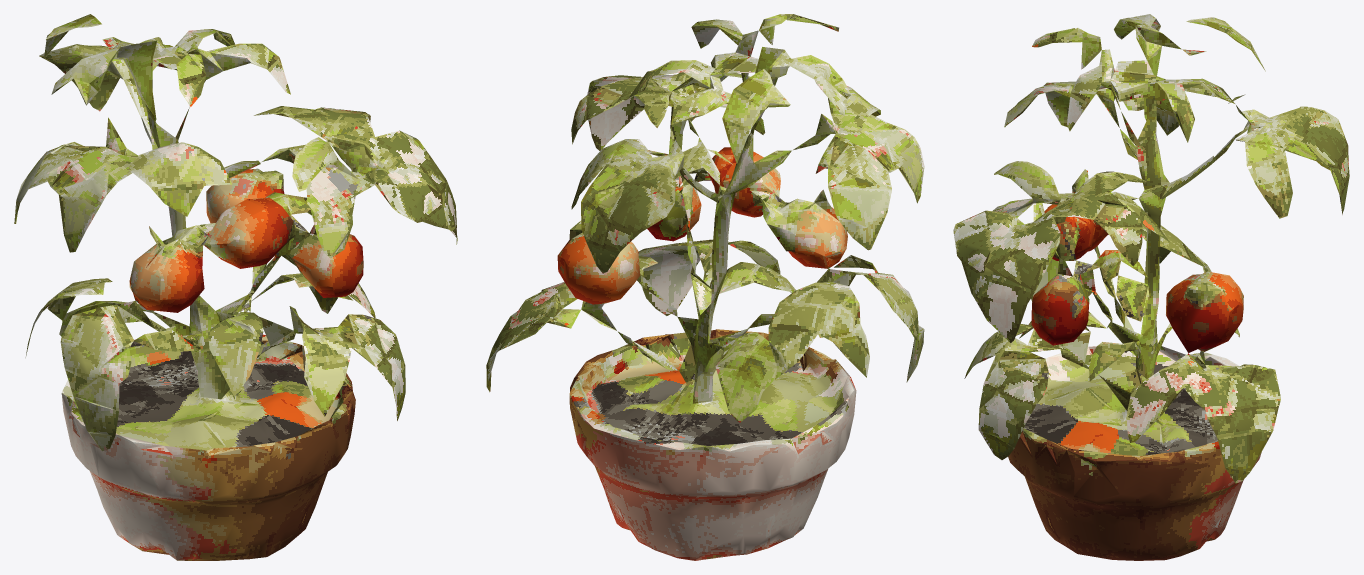
The model's file is tomato_plant2.glb.
The picture shows the model from 3 angles, left to right: view 1: azimuth 30°, elevation 25°; view 2: azimuth 150°, elevation 25°; view 3: azimuth 270°, elevation 25°; orthographic projection. The views are drawn at different scales.
Visible parts, largest first — view 1: mesh; view 2: mesh; view 3: mesh.
Part boxes in pixels (x1,y1,x2,y2): mesh: (14, 14, 457, 560); mesh: (486, 14, 924, 560); mesh: (953, 14, 1349, 560).
Size of the model in its own units: 0.3768 by 0.5 by 0.3742.
1 material, 1 textured.
